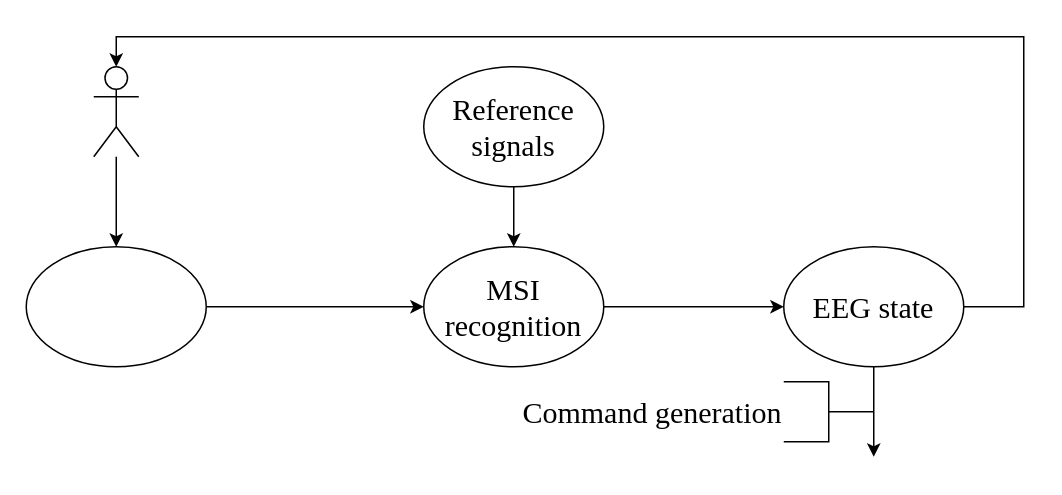
This 1062x495 diagram has some shape labels left out. Each missing label, with the centre of its shape:
Human: the point at 115,111
SSVEP: the point at 115,306
